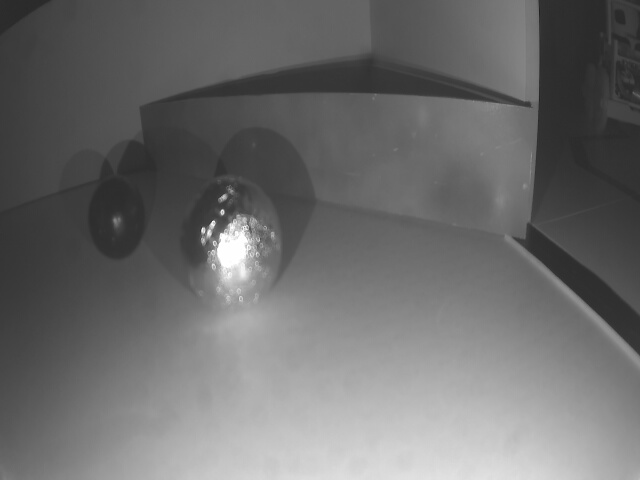Dead: (87, 180, 147, 259)
Green: (139, 102, 536, 239)
Live: (179, 184, 285, 310)
